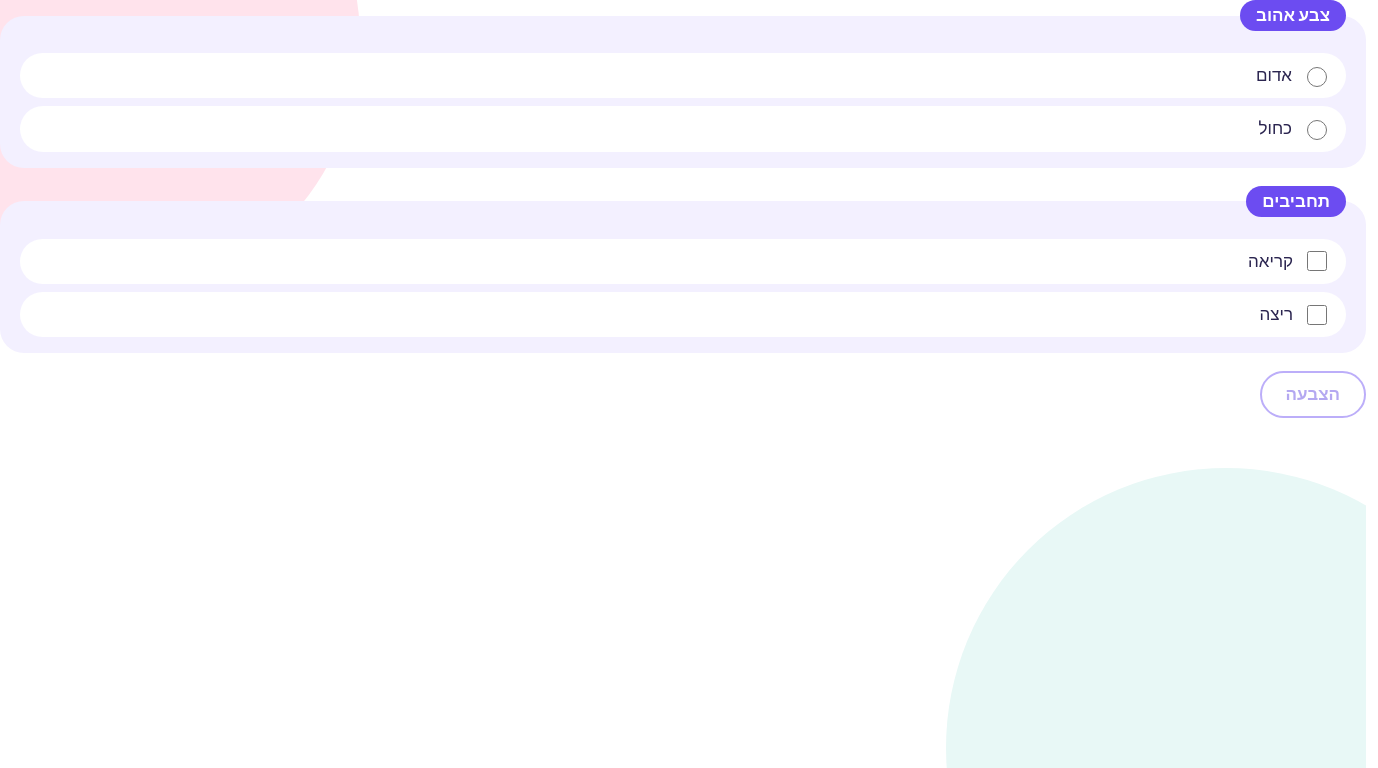
Scenario: VoteForm › כשל בהצבעה מציג הודעת שגיאה
The image size is (1378, 768).
What coordinates should you click on to do the following:
click the radio button labelled "אדום"
I would click on:
 (1317, 77)
Its box is [1307,67,1327,87].
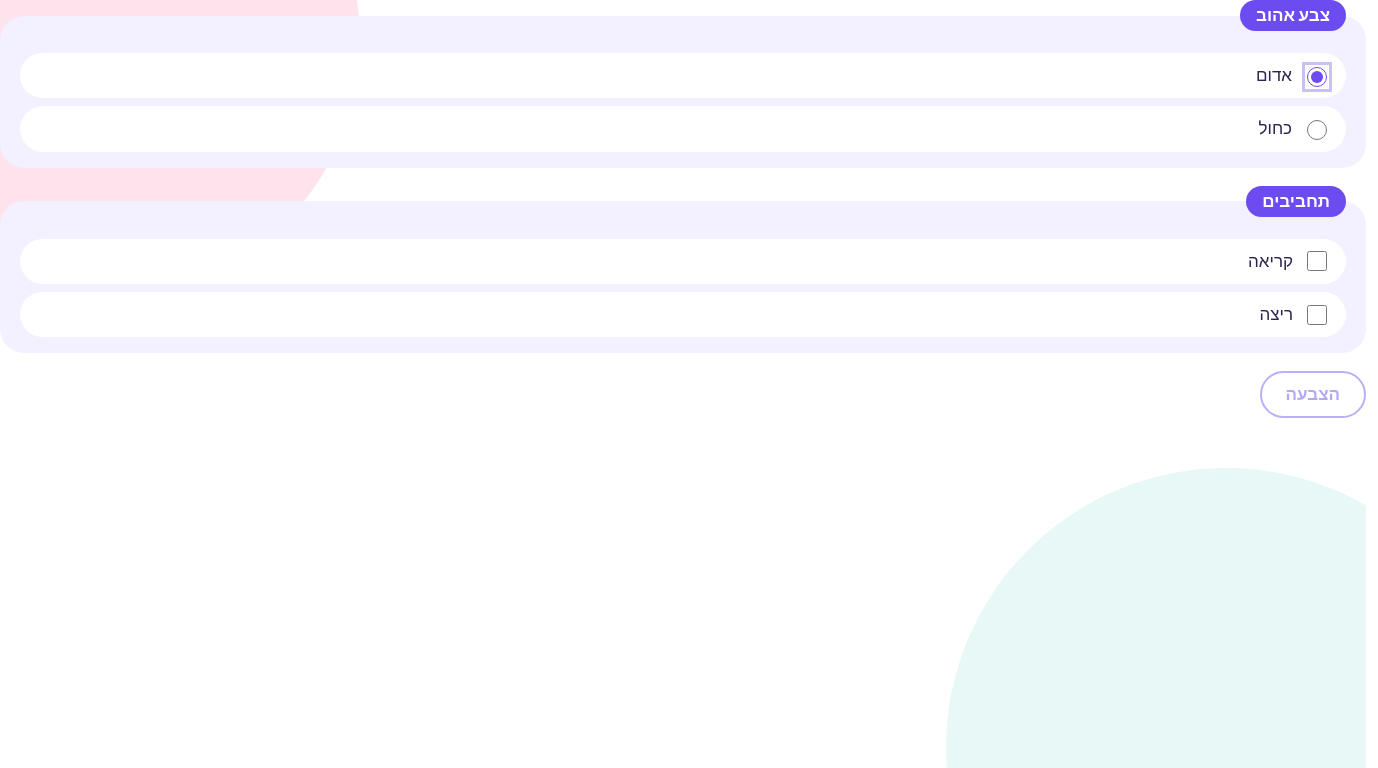
What coordinates should you click on to do the following:
click the checkbox labelled "קריאה"
I would click on:
 (1317, 261)
Its box is [1307,251,1327,271].
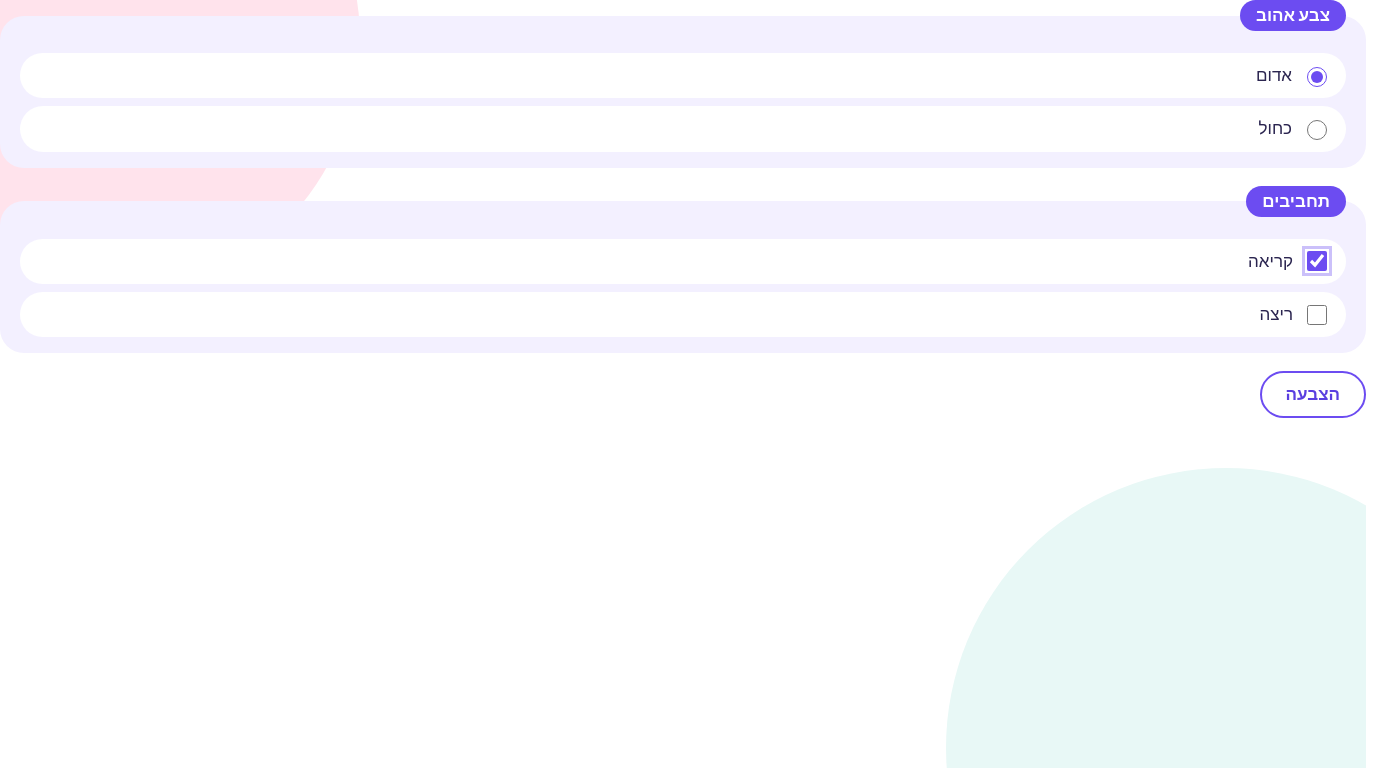
What coordinates should you click on to do the following:
click the button "הצבעה"
I would click on:
 (1313, 395)
Its box is [1260,371,1366,418].
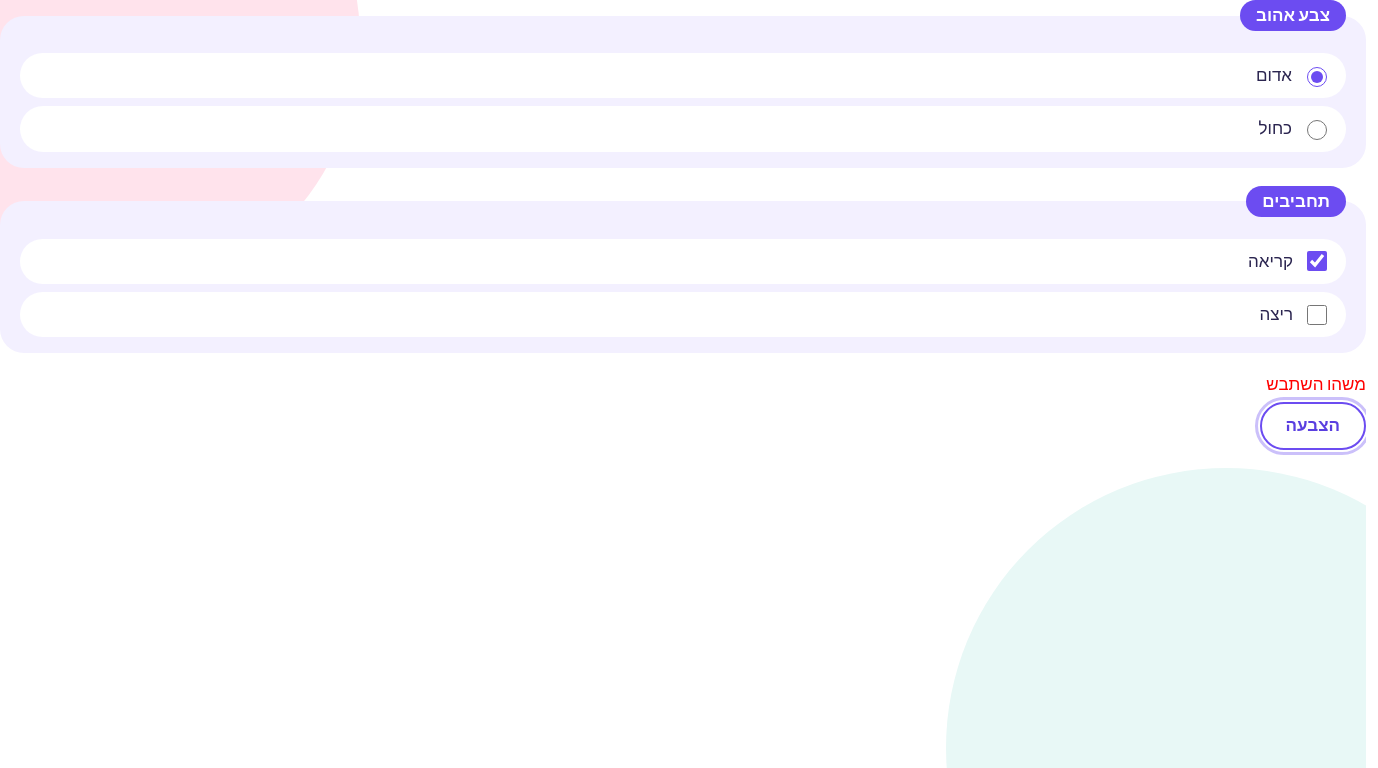
Check: the text "משהו השתבש" is shown, box [1266,373,1366,395]
